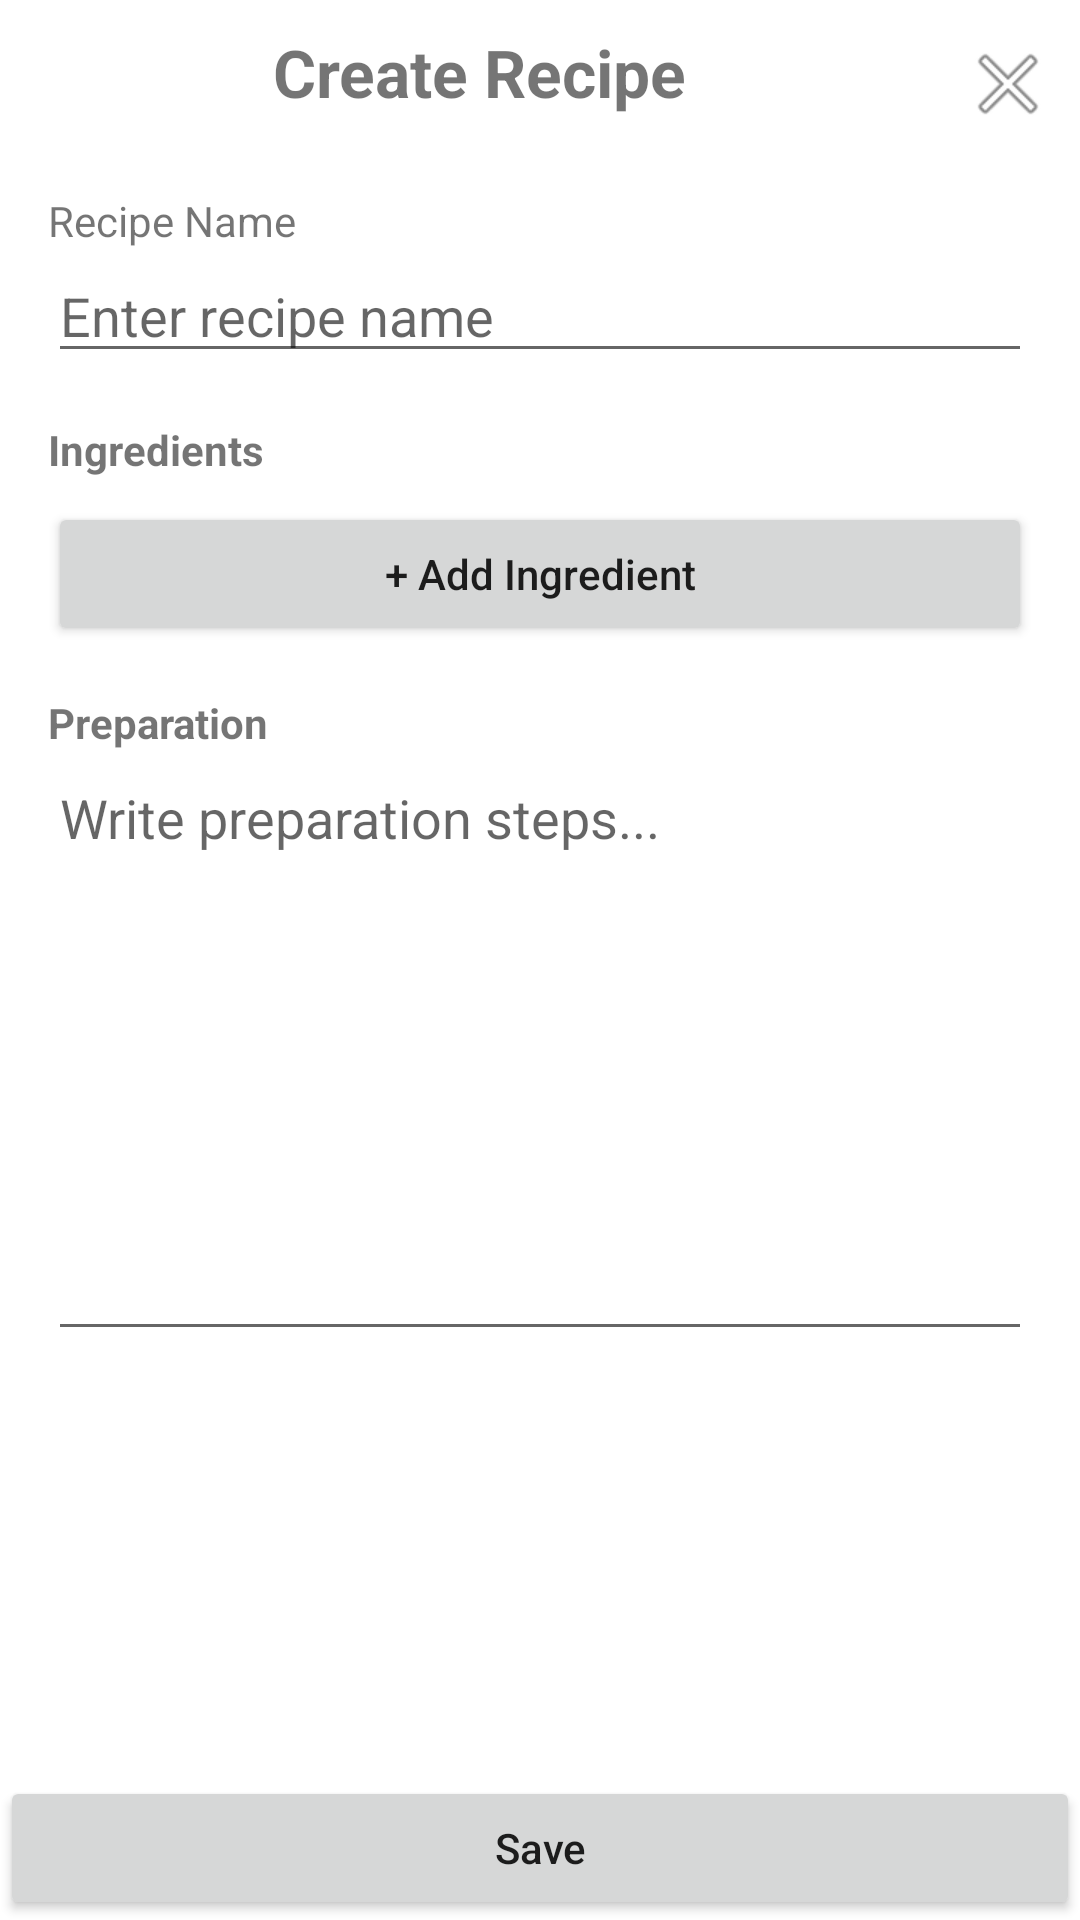

Named icons in this screenshot (1080×1920) and their centers, (x=x, y=y):
Close: (x=1008, y=84)
